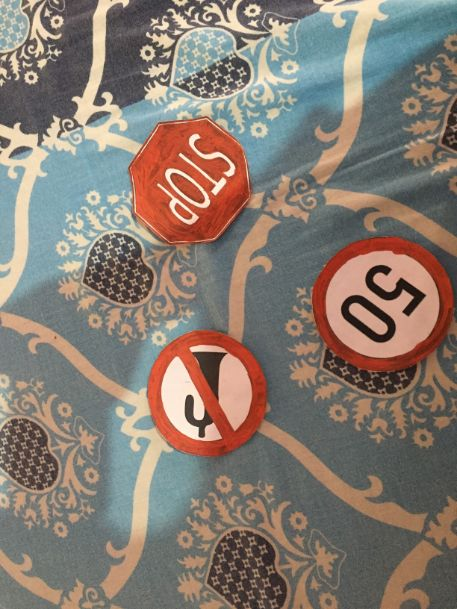no-horn: (145, 327, 271, 453)
speed-50: (315, 231, 457, 373)
stop: (128, 116, 256, 244)
